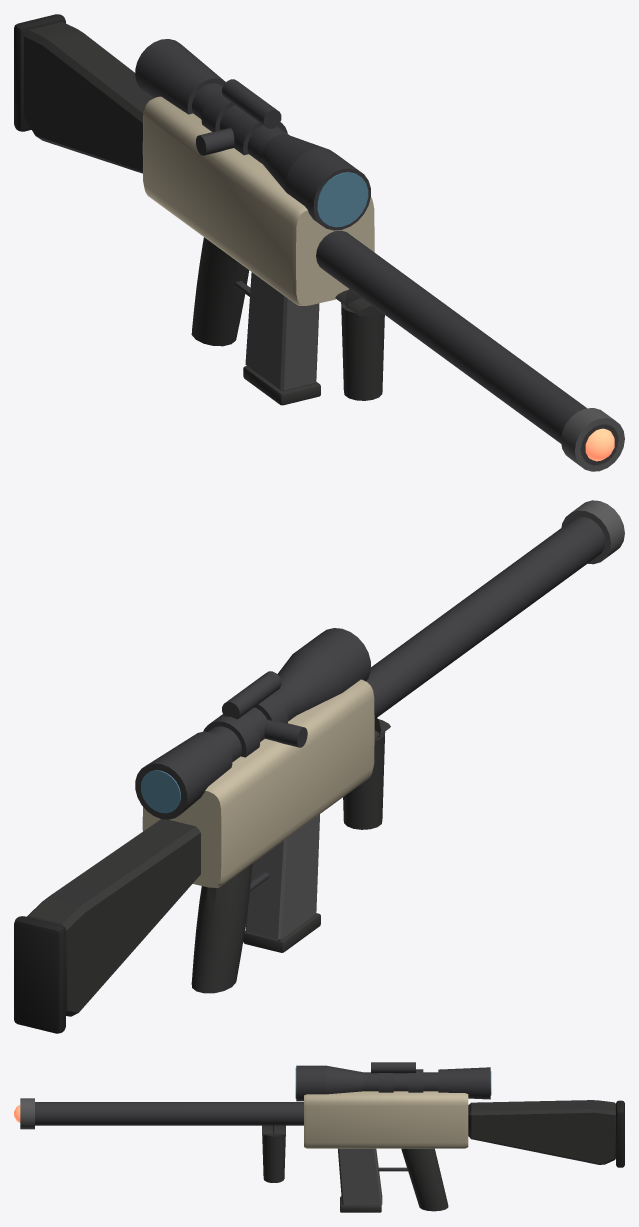
The model's file is limpetsniper.glb.
3 views of the same model, one above another, from view 1: azimuth 30°, elevation 25°; view 2: azimuth 150°, elevation 25°; view 3: azimuth 270°, elevation 25° (orthographic). The views are drawn at different scales.
Parts seen in each view (by area): view 1: Body; view 2: Body; view 3: Body.
Boxes of the visible parts, x1,y1,x2,y2 form: Body: [14, 14, 624, 471]; Body: [14, 500, 624, 1033]; Body: [14, 1062, 624, 1212].
Bounding box in the file's own units: 0.076 × 0.2145 × 0.8183.
